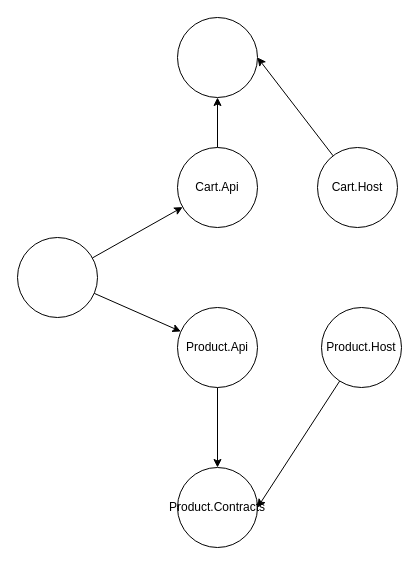
Some shapes in this 419 by 565 pixel diagram are drawn without their labels. The centre of each missing label's shape, as x and y in pixels:
Api: the point at 57,277
Cart.Contracts: the point at 217,57
